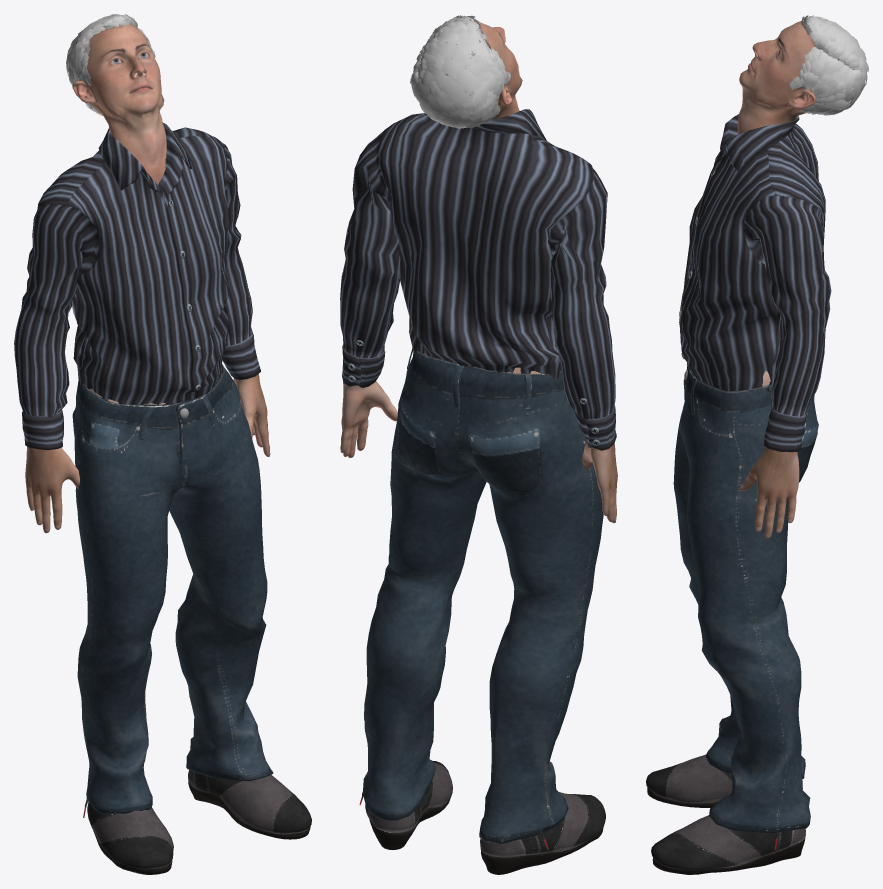
The picture shows the model from 3 angles, left to right: view 1: azimuth 30°, elevation 25°; view 2: azimuth 150°, elevation 25°; view 3: azimuth 270°, elevation 25°; orthographic projection. The views are drawn at different scales.
Parts seen in each view (by area): view 1: Bottoms_Bottomsmesh, Tops_Topsmesh, Body_Bodymesh, Shoes_Shoesmesh, Hair_Hairmesh; view 2: Bottoms_Bottomsmesh, Tops_Topsmesh, Hair_Hairmesh, Shoes_Shoesmesh, Body_Bodymesh; view 3: Bottoms_Bottomsmesh, Tops_Topsmesh, Shoes_Shoesmesh, Body_Bodymesh, Hair_Hairmesh.
Part boxes in pixels (<box>): Bottoms_Bottomsmesh: <box>72,364,273,813</box>; Tops_Topsmesh: <box>14,122,260,449</box>; Body_Bodymesh: <box>25,23,270,533</box>; Shoes_Shoesmesh: <box>83,770,311,874</box>; Hair_Hairmesh: <box>66,14,155,115</box>; Bottoms_Bottomsmesh: <box>363,347,603,843</box>; Tops_Topsmesh: <box>340,109,616,450</box>; Hair_Hairmesh: <box>410,15,510,128</box>; Shoes_Shoesmesh: <box>359,761,605,874</box>; Body_Bodymesh: <box>340,20,617,523</box>; Bottoms_Bottomsmesh: <box>673,363,818,833</box>; Tops_Topsmesh: <box>679,114,831,452</box>; Shoes_Shoesmesh: <box>646,754,805,874</box>; Body_Bodymesh: <box>737,20,854,538</box>; Hair_Hairmesh: <box>790,15,868,115</box>.
Bounding box in the file's own units: 58.32 × 179 × 45.11.
